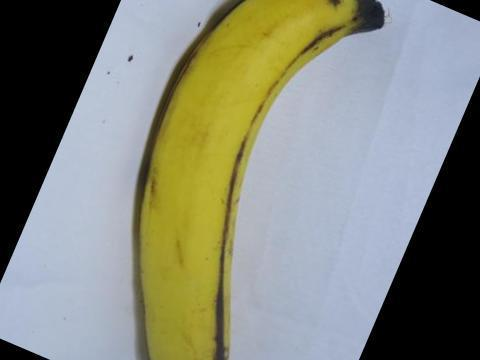ripe: (116, 0, 410, 359)
